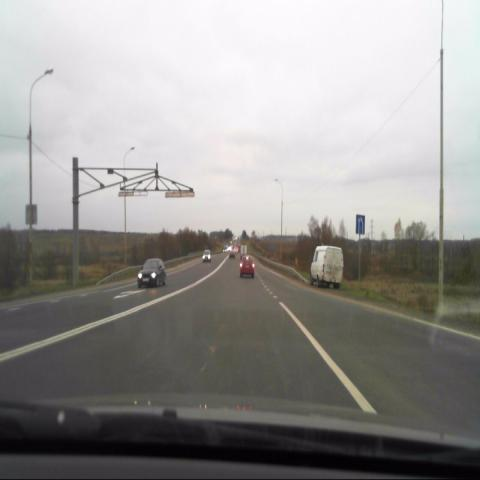5_15_5: (355, 215, 365, 234)
